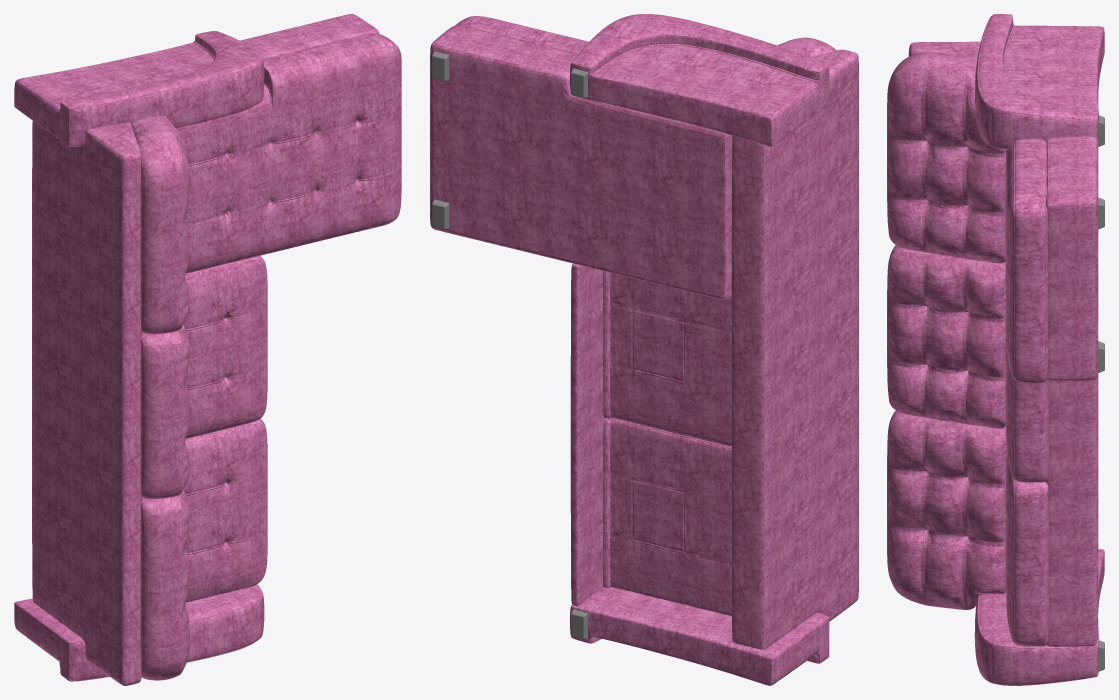
The model's file is sofa.glb.
3 renders of one model, left to right at view 1: azimuth 30°, elevation 25°; view 2: azimuth 150°, elevation 25°; view 3: azimuth 270°, elevation 25°, orthographic. The views are drawn at different scales.
Parts seen in each view (by area): view 1: Divan_sofa California N090925; view 2: Divan_sofa California N090925; view 3: Divan_sofa California N090925.
Part boxes in pixels (bbox=[...]): Divan_sofa California N090925: bbox=[14, 14, 401, 685]; Divan_sofa California N090925: bbox=[430, 14, 858, 685]; Divan_sofa California N090925: bbox=[887, 14, 1104, 685].
Bounding box in the file's own units: 1.86 × 2.98 × 1.01.
Materials: 2 (1 with a texture image).
